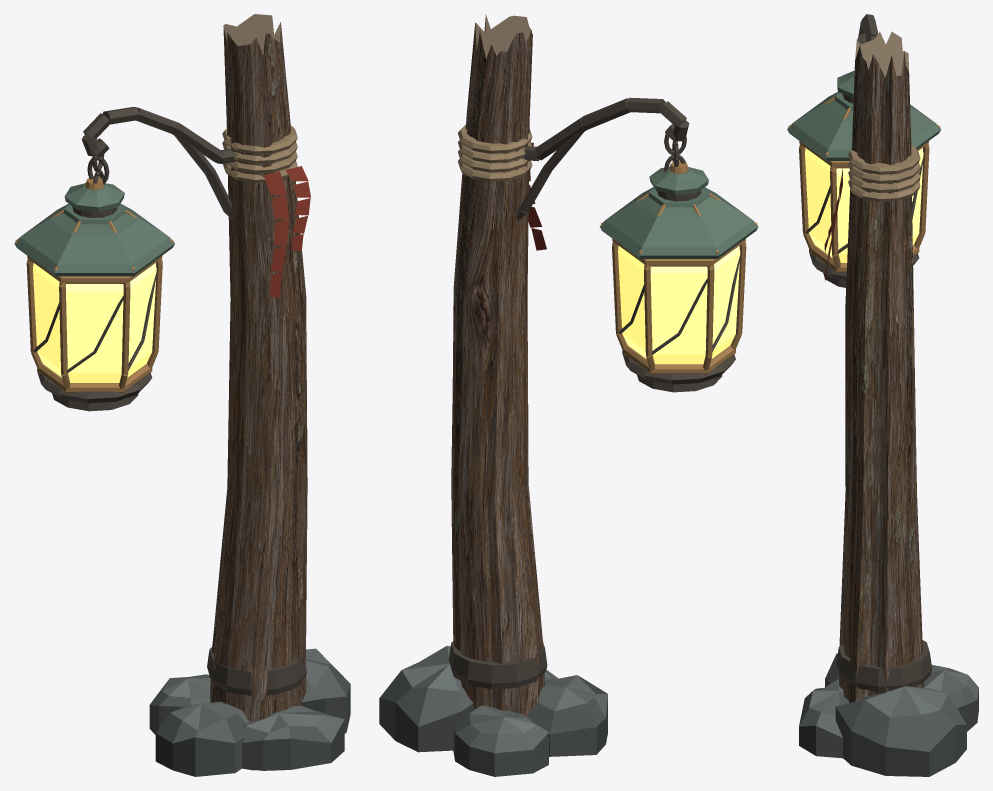
File: waylight.glb
3 renders of one model, left to right at view 1: azimuth 30°, elevation 25°; view 2: azimuth 150°, elevation 25°; view 3: azimuth 270°, elevation 25°, orthographic. The views are drawn at different scales.
Visible parts, largest first — view 1: Split chestnut, Foundation slate, Amber glass, Blackened iron, Verdigris bronze, Worn brass edges, Oxblood linen, Waxed cord, Silvered heartwood; view 2: Split chestnut, Foundation slate, Blackened iron, Amber glass, Verdigris bronze, Worn brass edges, Waxed cord, Silvered heartwood; view 3: Split chestnut, Foundation slate, Verdigris bronze, Blackened iron, Amber glass, Waxed cord, Worn brass edges, Silvered heartwood, Oxblood linen.
Boxes of the visible parts, x1,y1,x2,y2 form: Split chestnut: (210, 23, 307, 770); Foundation slate: (149, 648, 350, 776); Amber glass: (33, 263, 156, 382); Blackened iron: (34, 107, 306, 695); Verdigris bronze: (14, 183, 174, 276); Worn brass edges: (15, 177, 173, 393); Oxblood linen: (263, 166, 310, 297); Waxed cord: (222, 125, 297, 182); Silvered heartwood: (223, 14, 280, 54); Split chestnut: (451, 18, 544, 716); Foundation slate: (379, 646, 607, 776); Blackened iron: (448, 97, 740, 689); Amber glass: (618, 246, 740, 364); Verdigris bronze: (599, 166, 758, 258); Worn brass edges: (600, 161, 757, 374); Waxed cord: (458, 124, 532, 181); Silvered heartwood: (475, 14, 532, 58); Split chestnut: (839, 45, 923, 702); Foundation slate: (799, 653, 978, 776); Verdigris bronze: (787, 71, 941, 160); Blackened iron: (806, 14, 931, 691); Amber glass: (805, 148, 923, 262); Waxed cord: (848, 145, 920, 201); Worn brass edges: (788, 97, 940, 272); Silvered heartwood: (855, 31, 908, 77); Oxblood linen: (824, 168, 842, 280).
Size of the model in its own units: 1.09 by 2.29 by 0.5721.
Materials: 9 (1 with a texture image).
